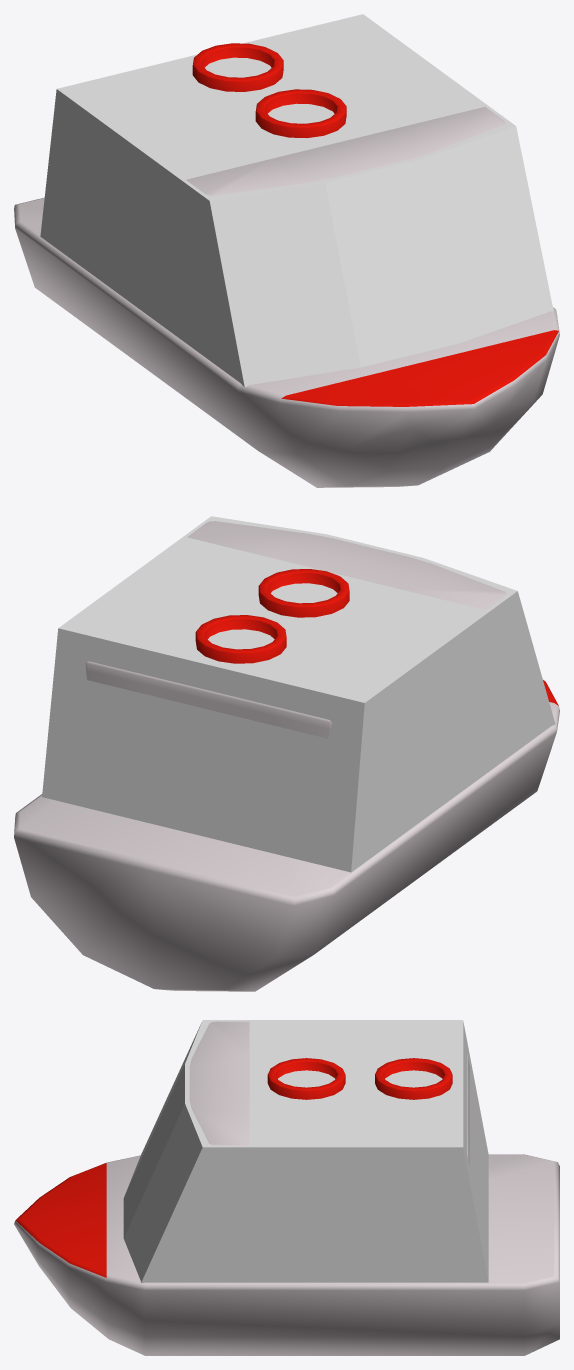
The model's file is Boat.fbx.
3 renders of one model, top to bottom at view 1: azimuth 30°, elevation 25°; view 2: azimuth 150°, elevation 25°; view 3: azimuth 270°, elevation 25°, orthographic. The views are drawn at different scales.
Parts seen in each view (by area): view 1: Bcoll 1, Boat; view 2: Bcoll 1, Boat; view 3: Bcoll 1, Boat.
Boxes of the visible parts, x1,y1,x2,y2 form: Bcoll 1: (40, 14, 553, 387); Boat: (14, 43, 559, 487); Bcoll 1: (42, 516, 555, 872); Boat: (14, 521, 559, 991); Bcoll 1: (123, 1020, 488, 1283); Boat: (14, 1021, 559, 1355).
Size of the model in its own units: 196 by 182 by 342.
